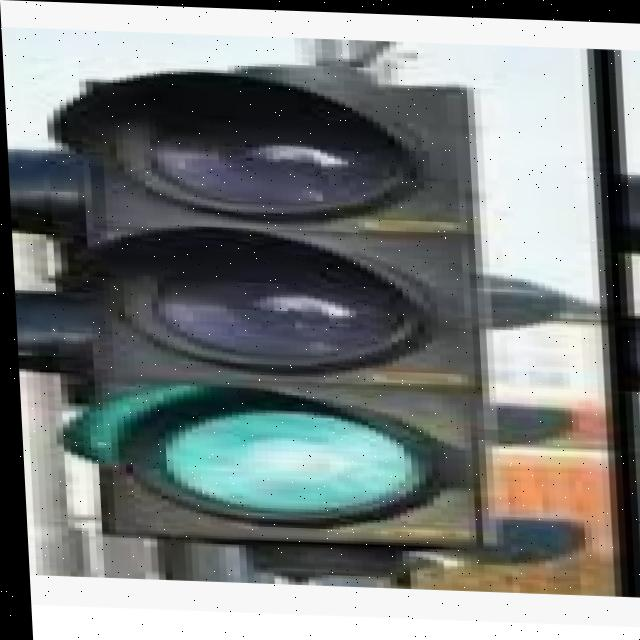light_traffic: (0, 0, 603, 612)
